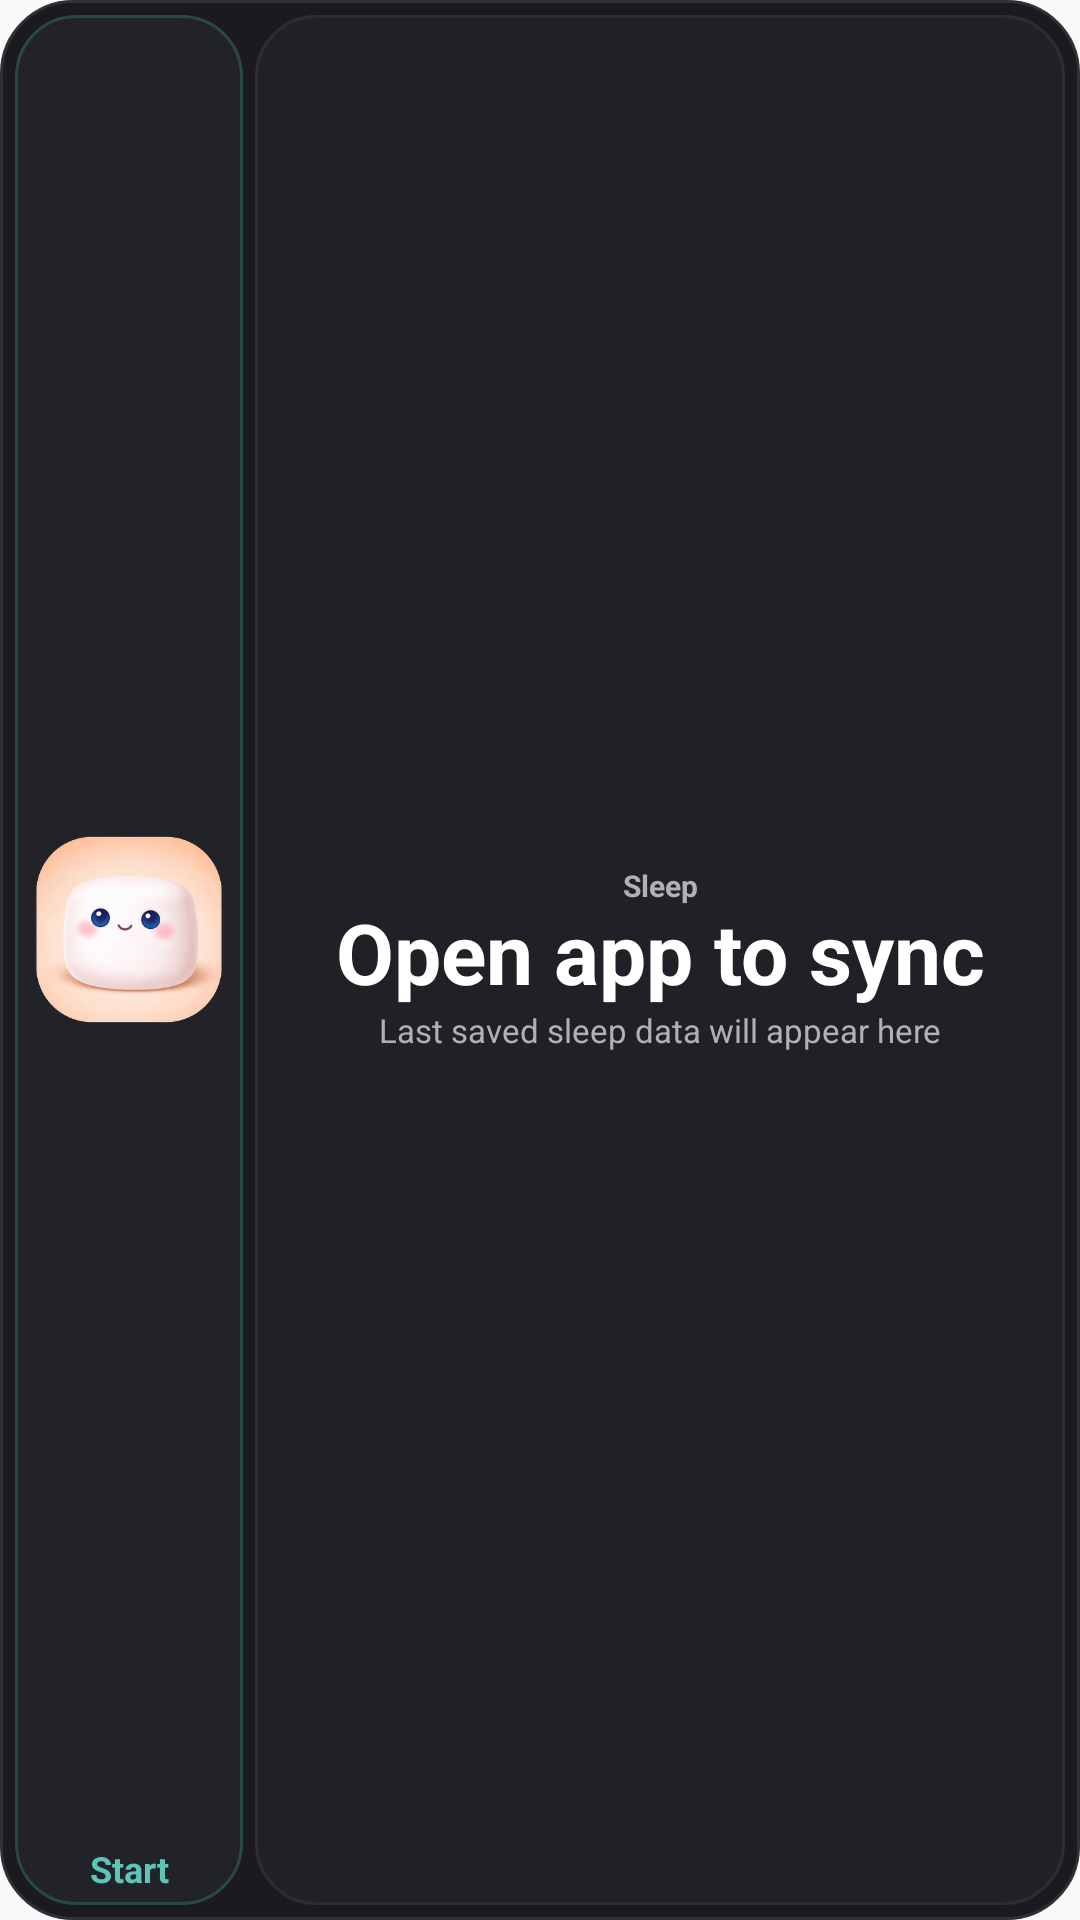

Icon click points for this 1080*1920 phone screenshot, format (x=x, y=y):
marshmallow awake: (x=129, y=929)
